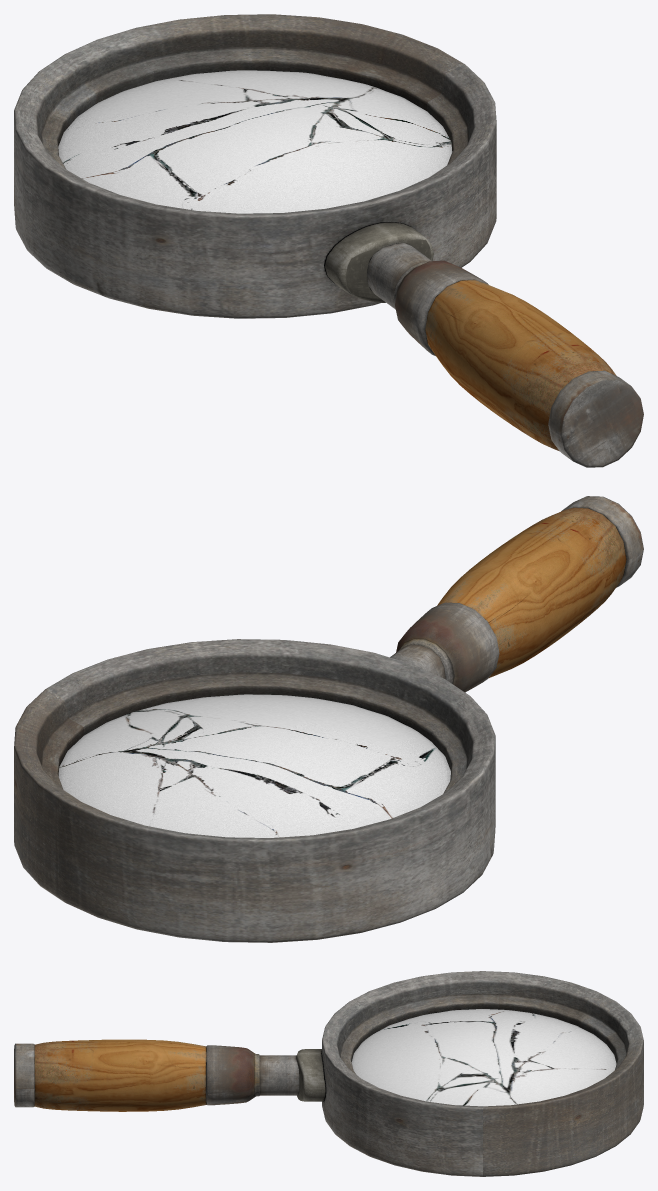
The model's file is buyutec_pivoted.FBX.
3 renders of one model, top to bottom at view 1: azimuth 30°, elevation 25°; view 2: azimuth 150°, elevation 25°; view 3: azimuth 270°, elevation 25°, orthographic. The views are drawn at different scales.
Parts seen in each view (by area): view 1: Plane; view 2: Plane; view 3: Plane.
Boxes of the visible parts, bbox=[...] form: Plane: bbox=[14, 14, 643, 467]; Plane: bbox=[14, 496, 643, 942]; Plane: bbox=[14, 971, 643, 1176].
Size of the model in its own units: 4645 by 1094 by 8976.
Materials: 6 (6 with a texture image).
